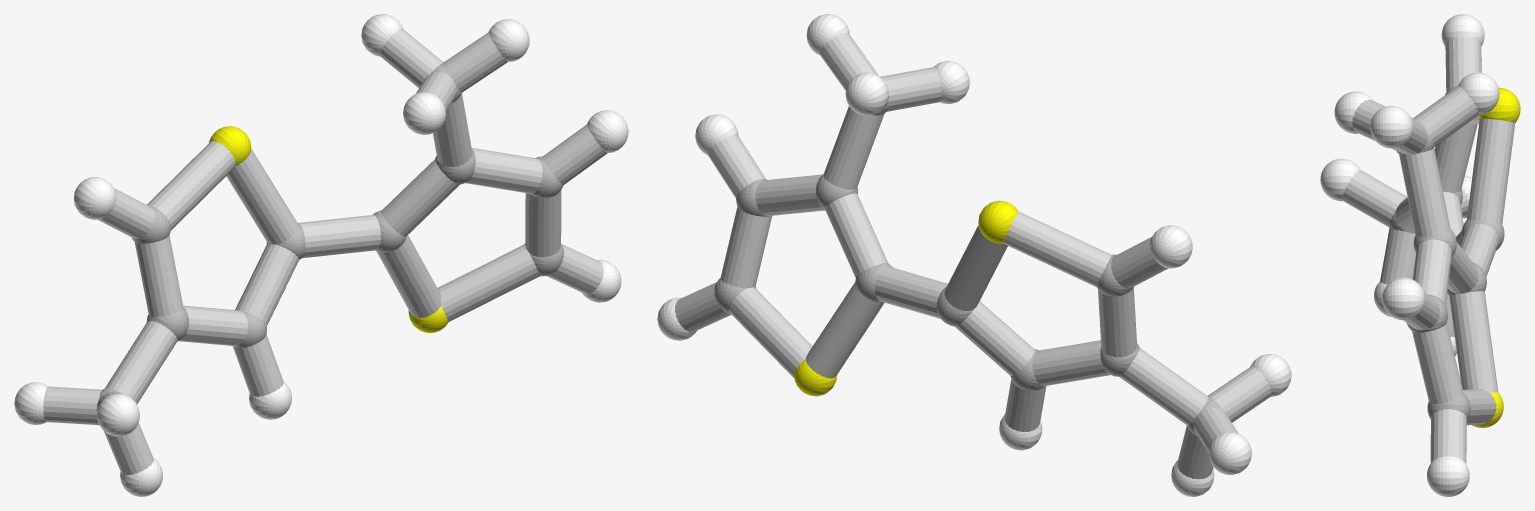
File: Methylthiophene_Phi_20_Theta_30_Methylthiophene.glb
The picture shows the model from 3 angles, left to right: view 1: azimuth 30°, elevation 25°; view 2: azimuth 150°, elevation 25°; view 3: azimuth 270°, elevation 25°; orthographic projection.
Parts seen in each view (by area): view 1: grp7965, grp3621, grp1, grp7241; view 2: grp7965, grp3621, grp1, grp7241; view 3: grp7965, grp3621, grp1, grp7241.
Boxes of the visible parts, x1,y1,x2,y2 form: grp7965: [43, 28, 607, 474]; grp3621: [14, 14, 628, 496]; grp1: [98, 64, 563, 400]; grp7241: [209, 126, 448, 332]; grp7965: [675, 33, 1271, 479]; grp3621: [657, 14, 1291, 496]; grp1: [714, 77, 1222, 435]; grp7241: [794, 200, 1018, 396]; grp7965: [1342, 36, 1515, 463]; grp3621: [1320, 14, 1499, 496]; grp1: [1389, 85, 1504, 419]; grp7241: [1472, 87, 1520, 427].
Size of the model in its own units: 9.54 by 5.93 by 2.79.
